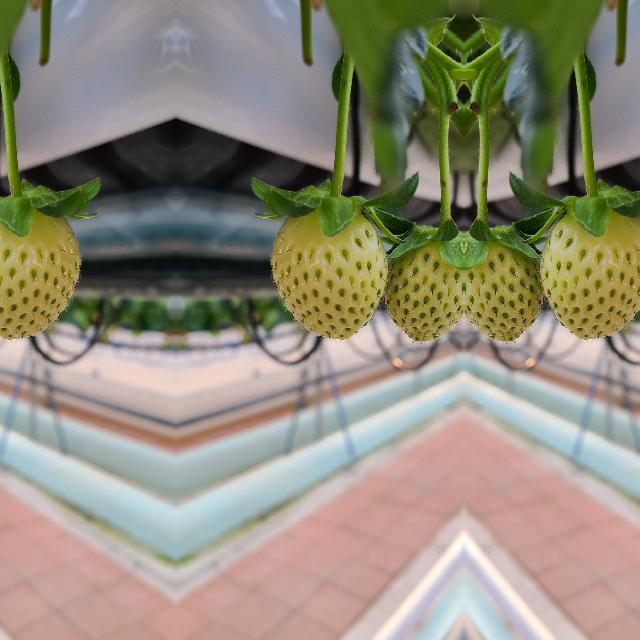Health_25: (270, 209, 386, 339), (540, 209, 640, 339), (376, 206, 462, 350), (464, 206, 550, 350), (0, 209, 80, 339)
